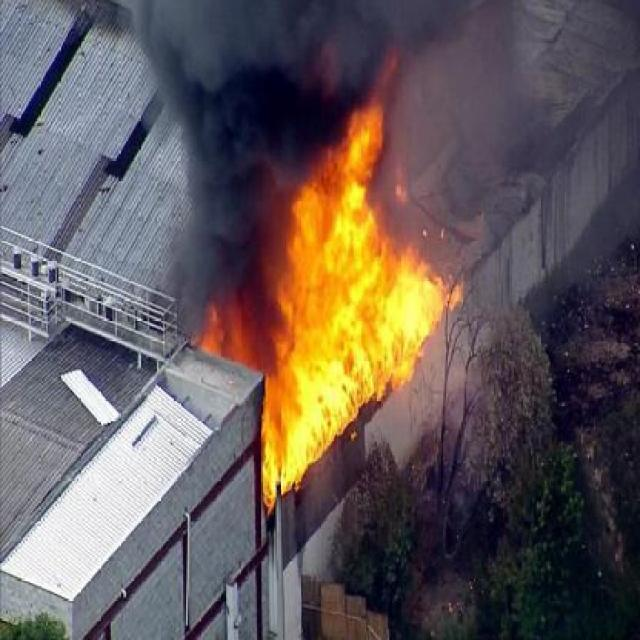Fire: (259, 97, 462, 518), (272, 188, 302, 344), (199, 292, 247, 362)
Smoke: (119, 3, 520, 349)
